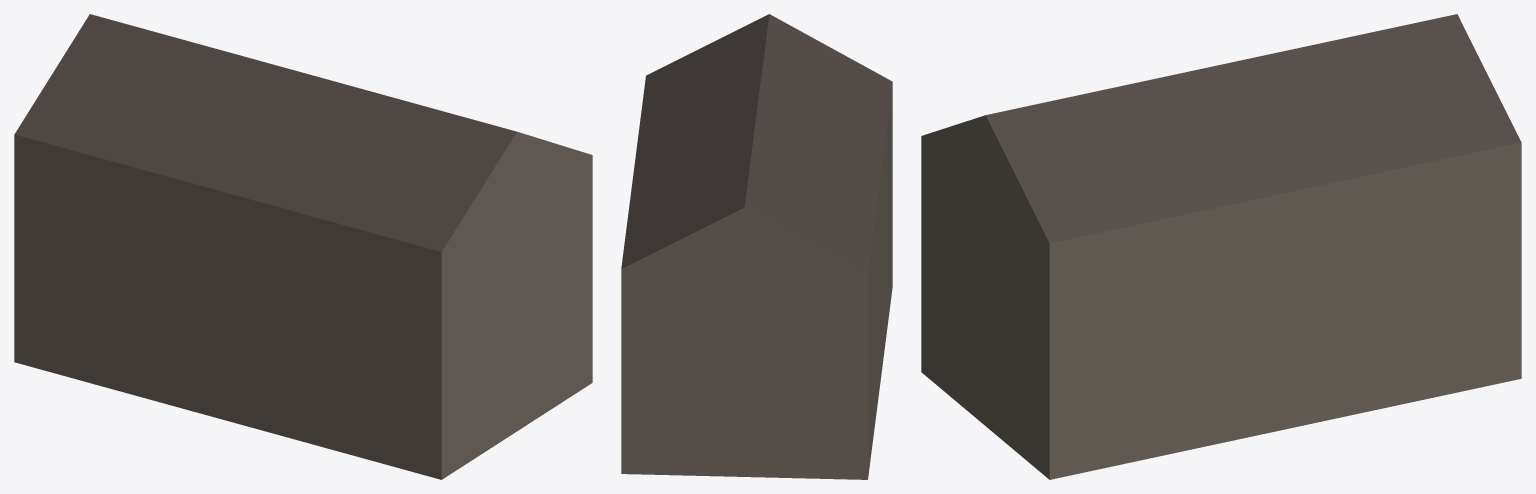
3 renders of one model, left to right at view 1: azimuth 30°, elevation 25°; view 2: azimuth 150°, elevation 25°; view 3: azimuth 270°, elevation 25°, orthographic. The views are drawn at different scales.
Parts seen in each view (by area): view 1: HP-w293414326; view 2: HP-w293414326; view 3: HP-w293414326.
Boxes of the visible parts, x1=… form: HP-w293414326: x1=14, y1=14, x2=592, y2=479; HP-w293414326: x1=621, y1=14, x2=892, y2=479; HP-w293414326: x1=921, y1=14, x2=1521, y2=479.
Size of the model in its own units: 11.37 by 7.89 by 13.8.
